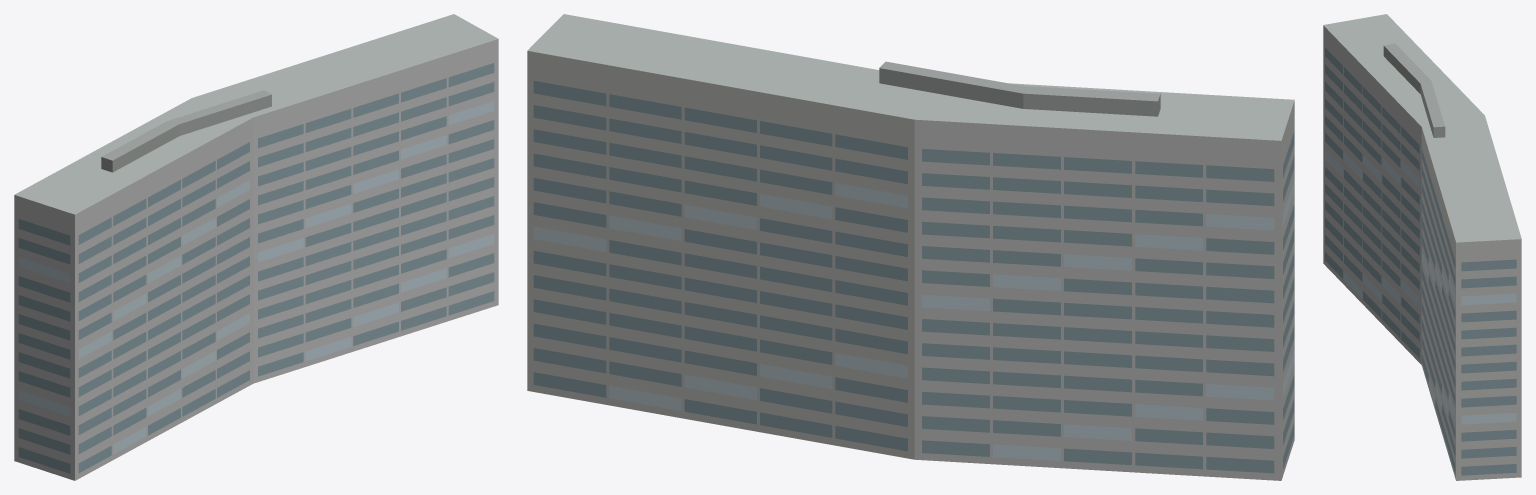
File: fallback-daechi-eunma-26.glb
3 renders of one model, left to right at view 1: azimuth 30°, elevation 25°; view 2: azimuth 150°, elevation 25°; view 3: azimuth 270°, elevation 25°, orthographic. The views are drawn at different scales.
Parts seen in each view (by area): view 1: fallback-daechi-eunma-26; view 2: fallback-daechi-eunma-26; view 3: fallback-daechi-eunma-26.
Boxes of the visible parts, bbox=[...] form: fallback-daechi-eunma-26: bbox=[14, 14, 498, 480]; fallback-daechi-eunma-26: bbox=[527, 14, 1294, 480]; fallback-daechi-eunma-26: bbox=[1323, 14, 1521, 480].
Bounding box in the file's own units: 87.81 × 44.62 × 32.25.
